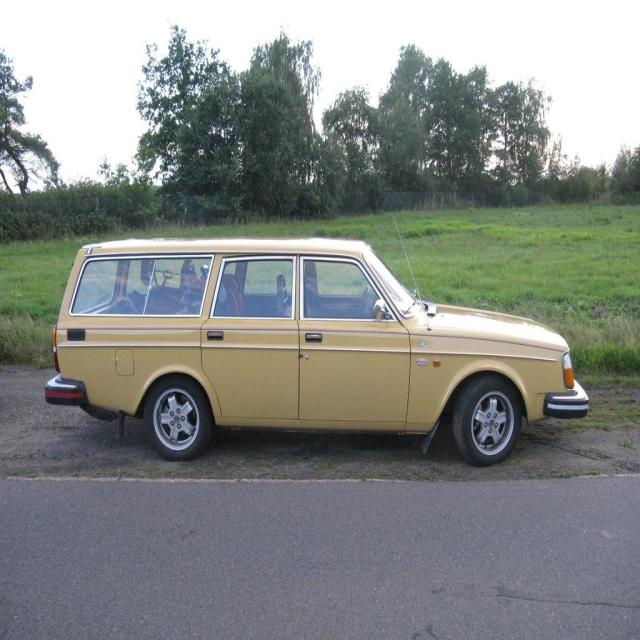car: (44, 216, 591, 462)
